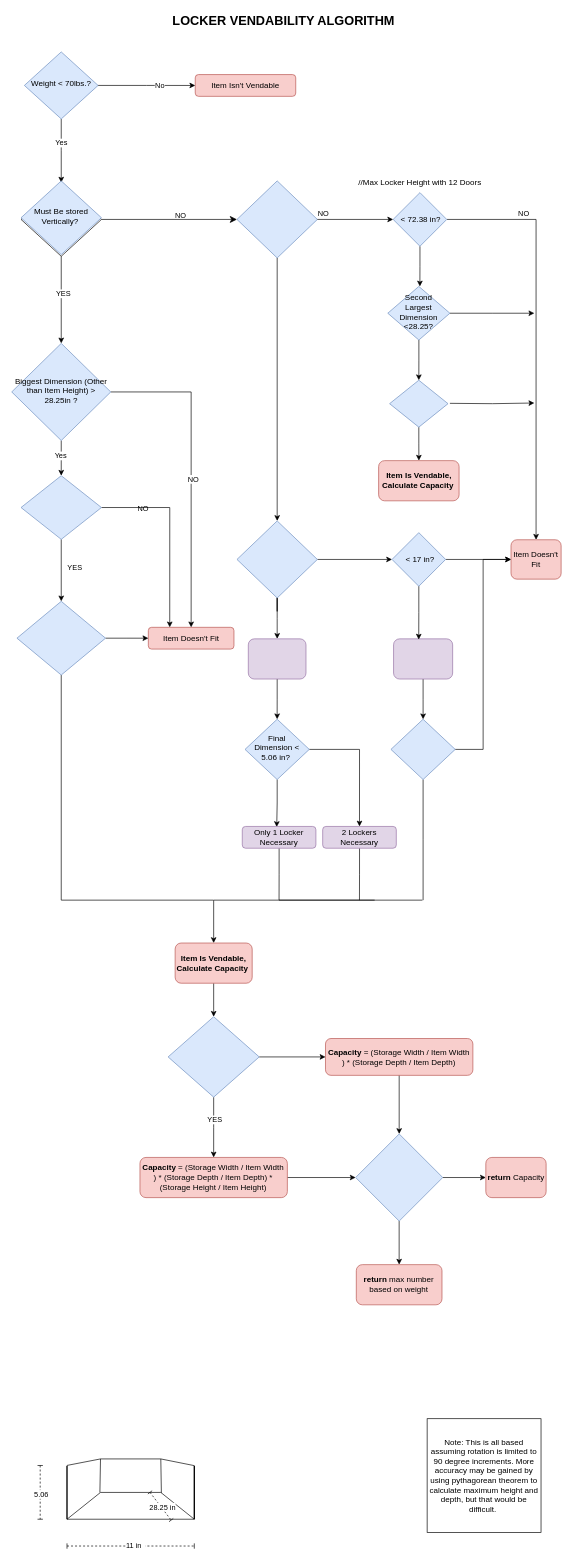
This 573x1564 diagram has some shape labels left out. Here are the shapes that lost their labels. From the top down, the box of each, then its label:
(236, 180, 317, 258): Largest Dimension <28.25 in.?
(389, 380, 448, 427): Third Largest Dimension <11 in?
(20, 475, 101, 539): Item Height < 36 in in?
(236, 520, 317, 598): Second Largest Dimension <11 in.?
(16, 601, 106, 675): Next Dimension < 11in?
(248, 638, 306, 679): Utilize Locker Width Instead of Height
(393, 638, 453, 679): 3 Lockers necessary
(390, 719, 455, 780): Final Dimension <11 in?
(167, 1016, 259, 1097): Stackable && Only One Locker Door Needed?
(355, 1133, 443, 1221): Capacity * item_weight > Locker_weight_cap?
